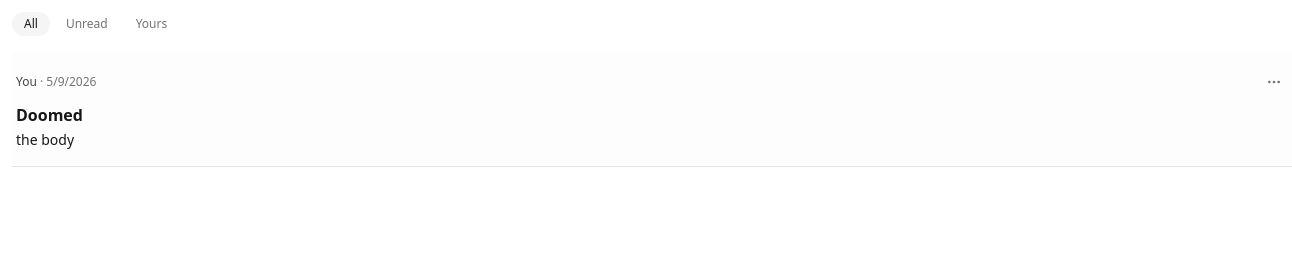
it: StreamView › deletes own posts via the menu and removes them from the list
Step 1. Click the button named "more" → {"x": 1274, "y": 82}, box [1260,68,1288,96]
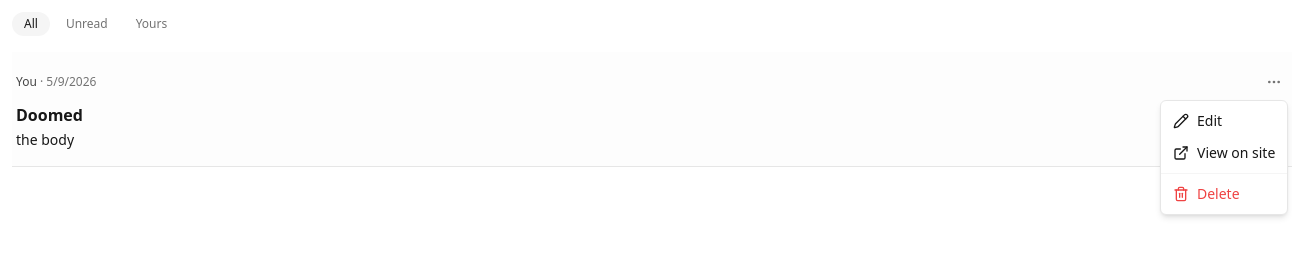
Step 2. Click the menu item "Delete" → {"x": 1206, "y": 194}, box [1173,184,1240,203]
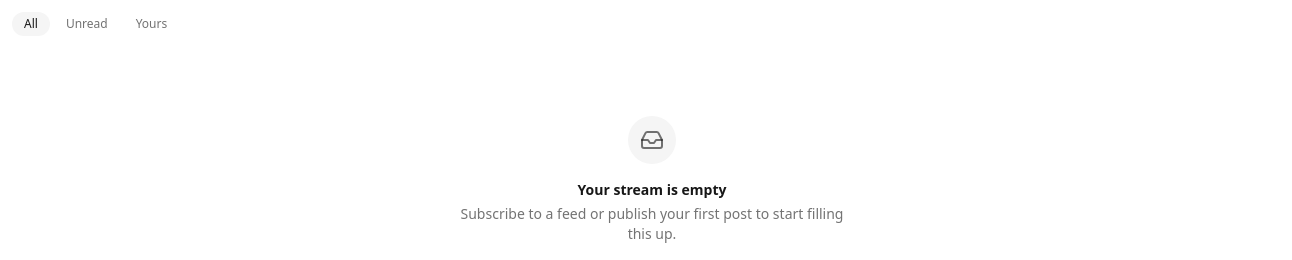
Result: the link "Doomed" is gone
